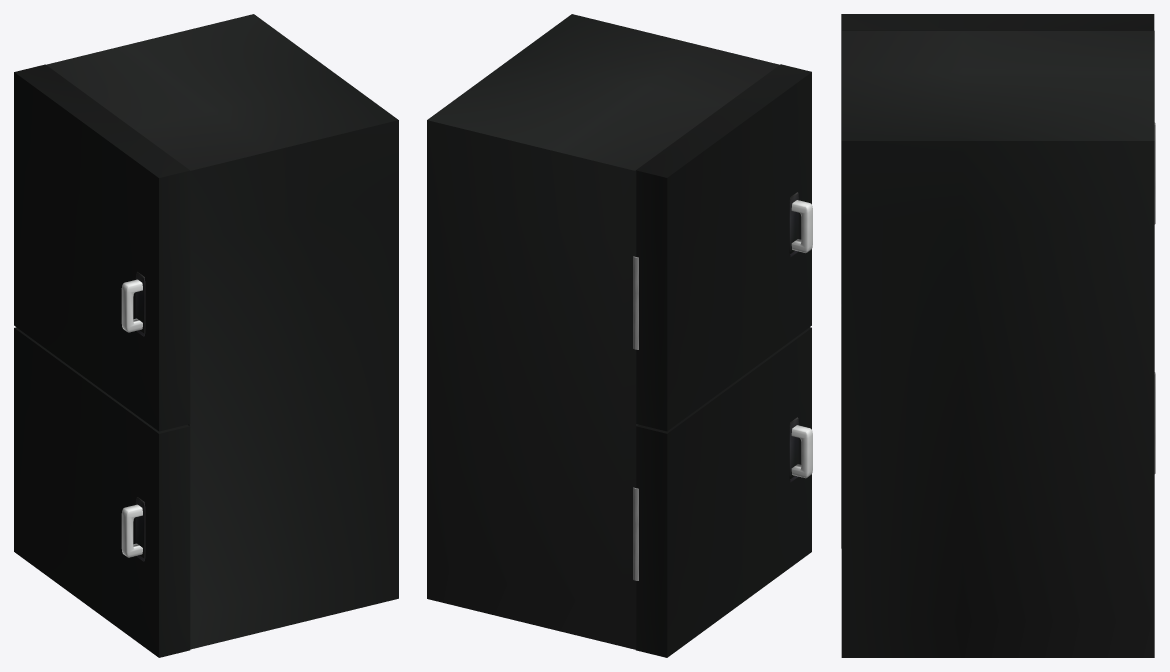
The model's file is fridge.glb.
3 renders of one model, left to right at view 1: azimuth 30°, elevation 25°; view 2: azimuth 150°, elevation 25°; view 3: azimuth 270°, elevation 25°, orthographic. The views are drawn at different scales.
Parts seen in each view (by area): view 1: Cube_0, Cube.002_2, Cube.003_3, Cube.006_6, Cube.004_4; view 2: Cube_0, Cube.002_2, Cube.003_3, Cube.006_6, Cube.004_4, Cylinder_8, Cylinder.001_9; view 3: Cube_0, Cube.002_2.
Part boxes in pixels (x1=…): Cube_0: x1=46, y1=14, x2=398, y2=649; Cube.002_2: x1=14, y1=64, x2=190, y2=431; Cube.003_3: x1=14, y1=327, x2=190, y2=657; Cube.006_6: x1=121, y1=504, x2=142, y2=557; Cube.004_4: x1=121, y1=279, x2=142, y2=332; Cube_0: x1=427, y1=14, x2=779, y2=649; Cube.002_2: x1=635, y1=64, x2=811, y2=431; Cube.003_3: x1=636, y1=327, x2=811, y2=657; Cube.006_6: x1=791, y1=425, x2=812, y2=478; Cube.004_4: x1=791, y1=200, x2=812, y2=252; Cylinder_8: x1=633, y1=256, x2=638, y2=349; Cylinder.001_9: x1=633, y1=487, x2=638, y2=580; Cube_0: x1=841, y1=31, x2=1154, y2=657; Cube.002_2: x1=841, y1=14, x2=1154, y2=303.
Size of the model in its own units: 3.22 by 5.74 by 3.16.
4 materials, 4 textured.
